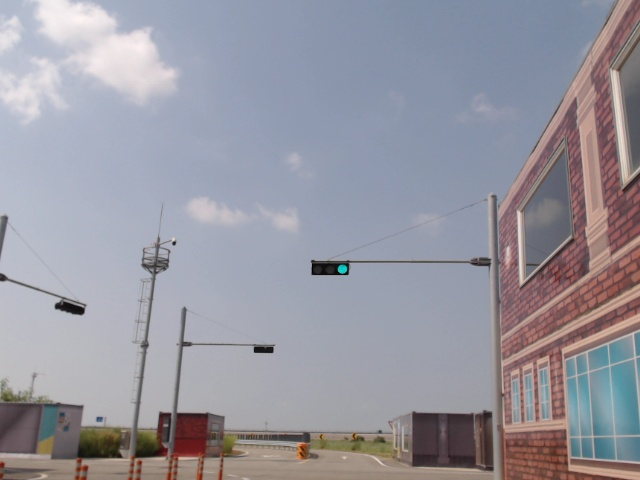green_3: (312, 261, 349, 275)
